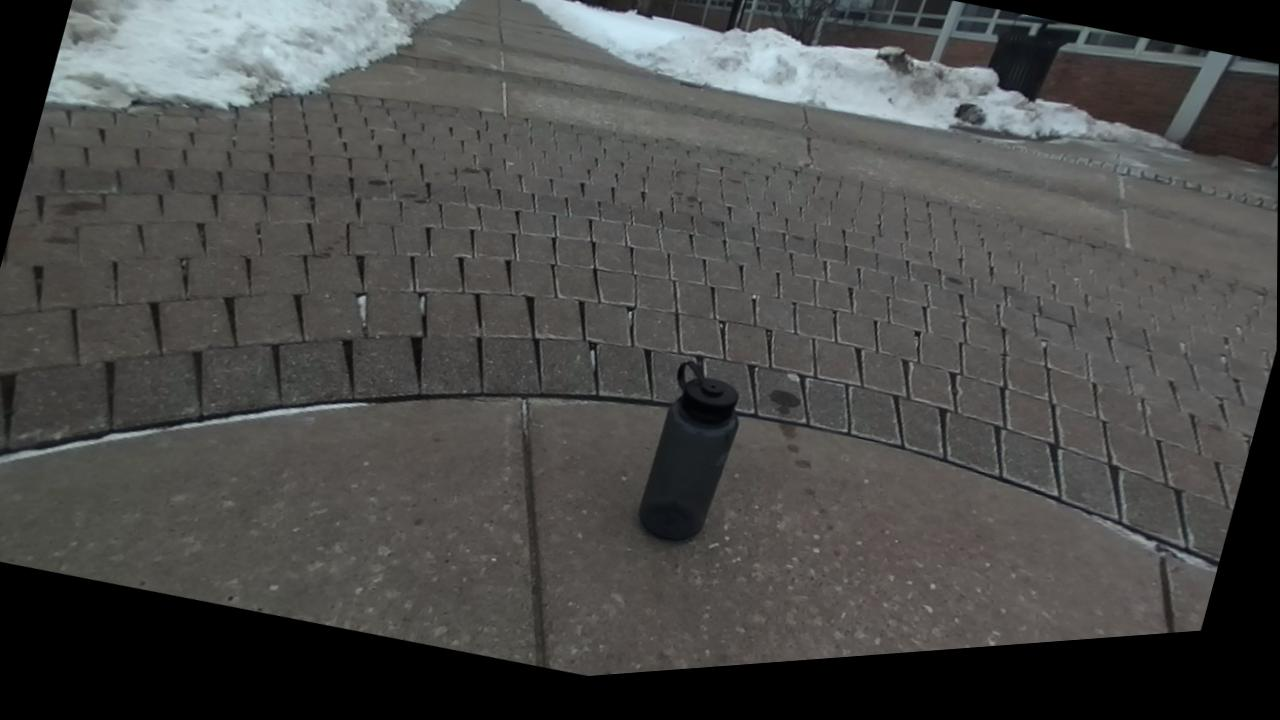bottle: (639, 361, 737, 540)
